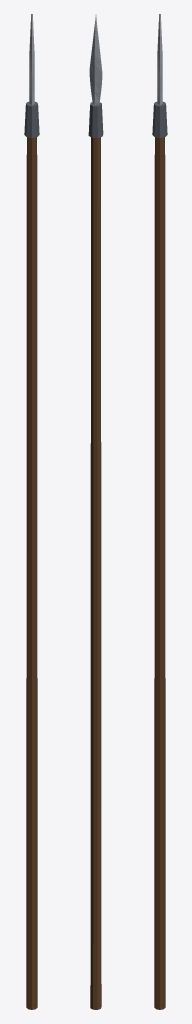
File: g-pike.glb
3 views of the same model, side by side, from view 1: azimuth 90°, elevation 25°; view 2: azimuth 150°, elevation 25°; view 3: azimuth 270°, elevation 25° (orthographic).
Visible parts, largest first — view 1: g-pike; view 2: g-pike; view 3: g-pike.
Part boxes in pixels (box(x1,y1,x2,y2)): g-pike: box(24, 14, 39, 1009); g-pike: box(88, 14, 103, 1009); g-pike: box(152, 14, 167, 1009).
Bounding box in the file's own units: 0.04 × 2.88 × 0.04.
